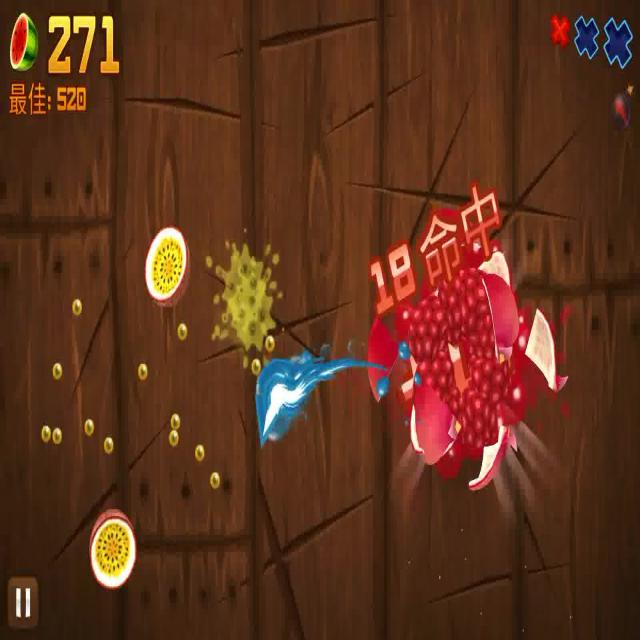fruit: (143, 225, 190, 312), (86, 511, 138, 587), (458, 375, 504, 454)
